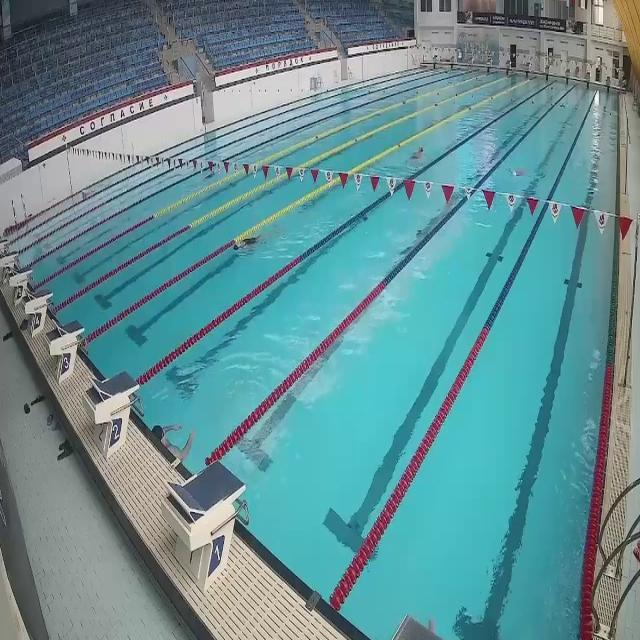Swimming: (233, 230, 277, 251), (408, 144, 427, 165), (510, 167, 529, 178)
